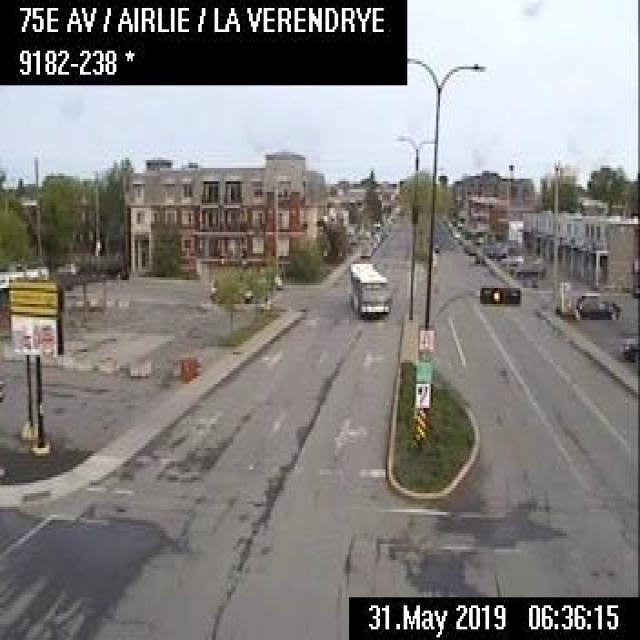bus: (345, 259, 391, 317)
construction: (180, 356, 188, 381), (188, 356, 192, 378)
vehicle: (576, 290, 619, 320), (514, 260, 544, 275), (622, 331, 638, 359), (499, 251, 522, 263), (358, 245, 371, 256)
